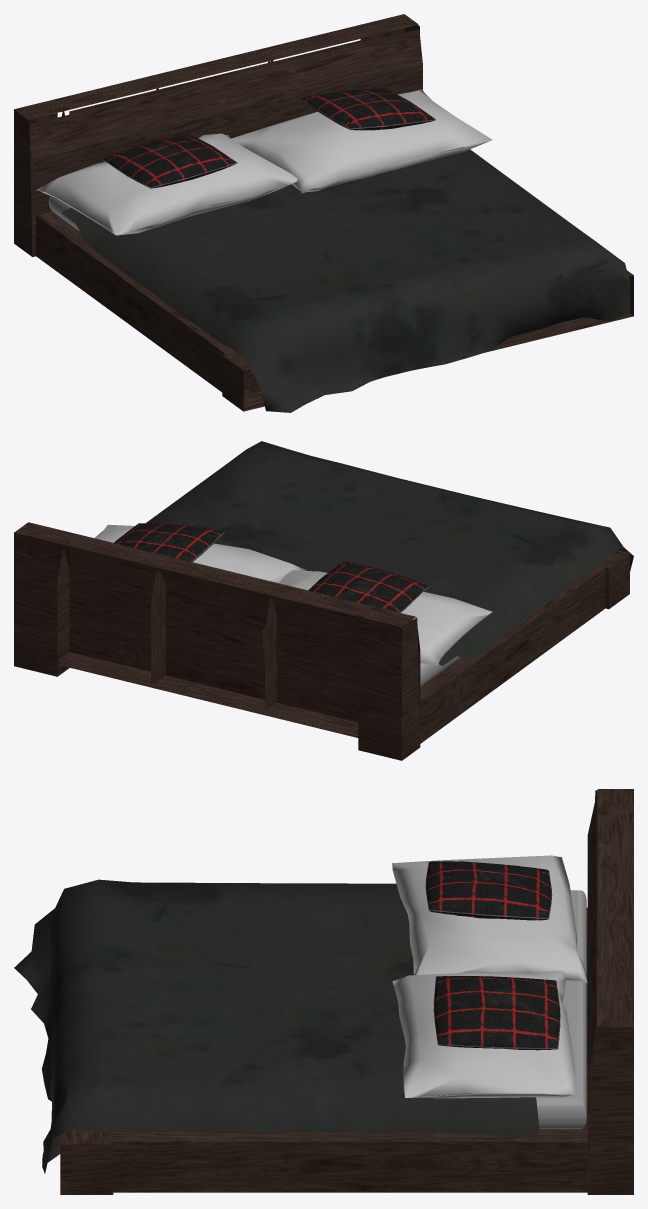
Rendered from bed-3.glb.
3 renders of one model, top to bottom at view 1: azimuth 30°, elevation 25°; view 2: azimuth 150°, elevation 25°; view 3: azimuth 270°, elevation 25°, orthographic. The views are drawn at different scales.
Parts seen in each view (by area): view 1: Bed, Pillow_2.001, Pillow_2, Plane.001, Plane.000; view 2: Bed, Pillow_2, Plane.001, Plane.000, Pillow_2.001; view 3: Bed, Pillow_2, Pillow_2.001, Plane.000, Plane.001.
Boxes of the visible parts, bbox=[...] form: Bed: bbox=[14, 14, 633, 412]; Pillow_2.001: bbox=[230, 89, 492, 193]; Pillow_2: bbox=[36, 133, 297, 235]; Plane.001: bbox=[102, 134, 237, 188]; Plane.000: bbox=[300, 88, 435, 130]; Bed: bbox=[14, 441, 633, 760]; Pillow_2: bbox=[279, 570, 492, 665]; Plane.001: bbox=[308, 561, 429, 612]; Plane.000: bbox=[114, 523, 224, 561]; Pillow_2.001: bbox=[94, 524, 306, 583]; Bed: bbox=[14, 789, 633, 1194]; Pillow_2: bbox=[391, 855, 587, 983]; Pillow_2.001: bbox=[392, 970, 576, 1098]; Plane.000: bbox=[433, 976, 560, 1050]; Plane.001: bbox=[425, 861, 552, 920].
Bounding box in the file's own units: 13.45 × 4.34 × 14.54.
5 materials, 5 textured.
